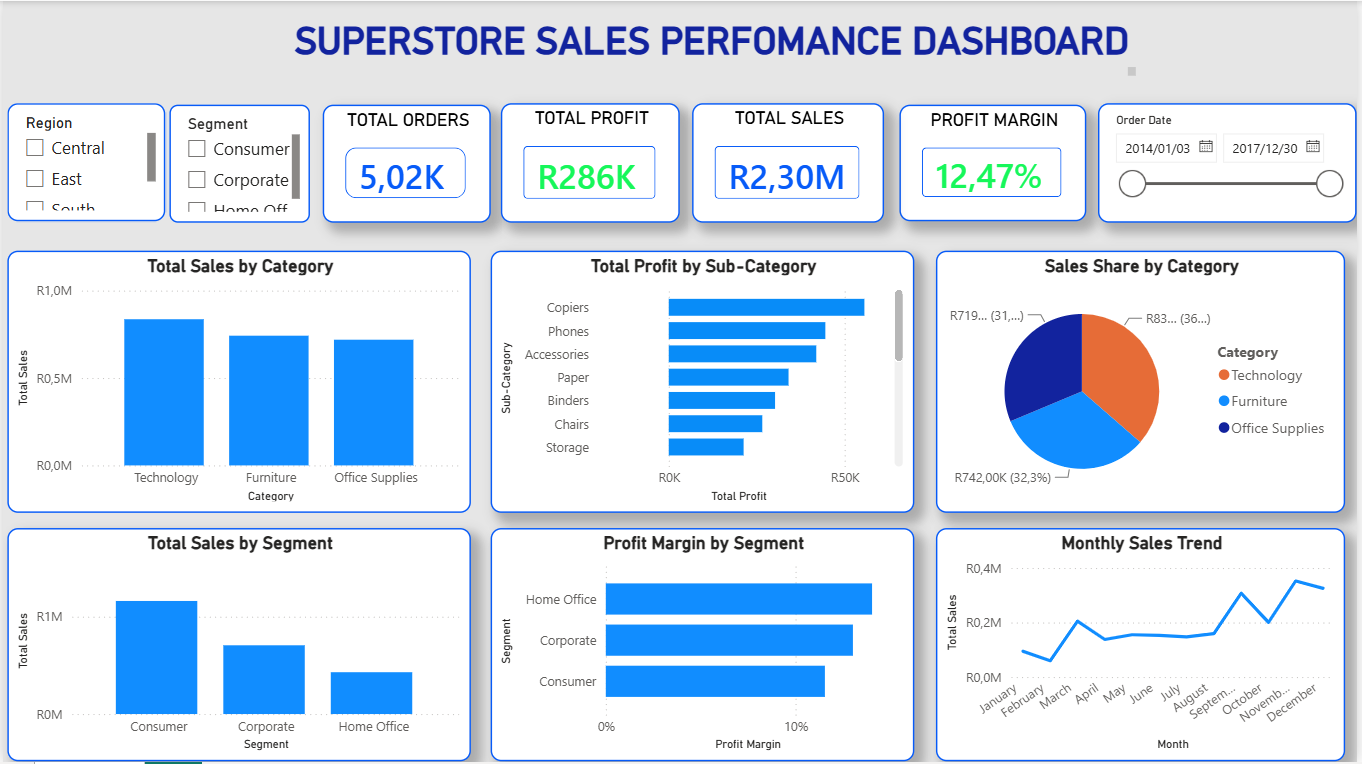

The dashboard page shown, as its layout file describes it:
{"tool":"powerbi","page":{"name":"Page 1","canvas":[1280,720],"ordinal":0},"visuals":[{"type":"cardVisual","title":"TOTAL ORDERS","fields":{"Data":["Analysis.Total Orders"]},"box":[302.2,98.2,158.7,111.8],"z":0},{"type":"cardVisual","title":"PROFIT MARGIN","fields":{"Data":["Analysis.Profit Margin"]},"box":[847.8,98.2,176.8,110.3],"z":1},{"type":"cardVisual","title":"TOTAL PROFIT","fields":{"Data":["Analysis.Total Profit"]},"box":[471.5,96.7,169.2,113.3],"z":2},{"type":"cardVisual","title":"TOTAL SALES","fields":{"Data":["Analysis.Total Sales"]},"box":[651.3,96.7,181.3,113.3],"z":3},{"type":"textbox","title":"SUPERSTORE SALES PERFOMANCE DASHBOARD","box":[270.5,16.6,805.4,58.9],"z":4},{"type":"clusteredColumnChart","fields":{"Category":["tblSales.Category"],"Y":["Analysis.Total Sales"]},"box":[4.5,235.7,438.2,247.8],"z":6},{"type":"clusteredBarChart","fields":{"Category":["tblSales.Sub-Category"],"Y":["Analysis.Total Profit"]},"box":[460.9,235.7,400.5,247.8],"z":7},{"type":"clusteredColumnChart","fields":{"Category":["tblSales.Segment"],"Y":["Analysis.Total Sales"]},"box":[4.5,498.7,438.2,220.6],"z":8},{"type":"clusteredBarChart","fields":{"Category":["tblSales.Segment"],"Y":["Analysis.Profit Margin"]},"box":[460.9,498.7,400.5,220.6],"z":9},{"type":"slicer","fields":{"Values":["tblSales.Region"]},"box":[4.5,96.7,149.6,111.8],"z":10},{"type":"slicer","fields":{"Values":["tblSales.Segment"]},"box":[157.2,98.2,133,111.8],"z":11},{"type":"slicer","fields":{"Values":["tblSales.Order Date"]},"box":[1035.1,96.7,244.8,113.3],"z":12},{"type":"pieChart","title":"Sales Share by Category","fields":{"Category":["tblSales.Category"],"Y":["Analysis.Total Sales"]},"box":[882.5,235.7,386.9,247.8],"z":13},{"type":"lineChart","title":"Monthly Sales Trend","fields":{"Category":["tblSales.Order Date.Variation.Date Hierarchy.Month"],"Y":["Analysis.Total Sales"]},"box":[882.5,498.7,386.9,220.6],"z":14}]}

Visuals, with their boxes in screenshot pixels (x1, y1, x2, y2), scaled from the page's 1280x720 canvas onto the 1362x764 screenshot:
"TOTAL ORDERS" cardVisual: [left=322, top=104, right=490, bottom=223]
"PROFIT MARGIN" cardVisual: [left=902, top=104, right=1090, bottom=221]
"TOTAL PROFIT" cardVisual: [left=502, top=103, right=682, bottom=223]
"TOTAL SALES" cardVisual: [left=693, top=103, right=886, bottom=223]
"SUPERSTORE SALES PERFOMANCE DASHBOARD" textbox: [left=288, top=18, right=1145, bottom=80]
clusteredColumnChart - tblSales.Category x Analysis.Total Sales: [left=5, top=250, right=471, bottom=513]
clusteredBarChart - tblSales.Sub-Category x Analysis.Total Profit: [left=490, top=250, right=917, bottom=513]
clusteredColumnChart - tblSales.Segment x Analysis.Total Sales: [left=5, top=529, right=471, bottom=763]
clusteredBarChart - tblSales.Segment x Analysis.Profit Margin: [left=490, top=529, right=917, bottom=763]
slicer - tblSales.Region: [left=5, top=103, right=164, bottom=221]
slicer - tblSales.Segment: [left=167, top=104, right=309, bottom=223]
slicer - tblSales.Order Date: [left=1101, top=103, right=1361, bottom=223]
"Sales Share by Category" pieChart: [left=939, top=250, right=1351, bottom=513]
"Monthly Sales Trend" lineChart: [left=939, top=529, right=1351, bottom=763]
